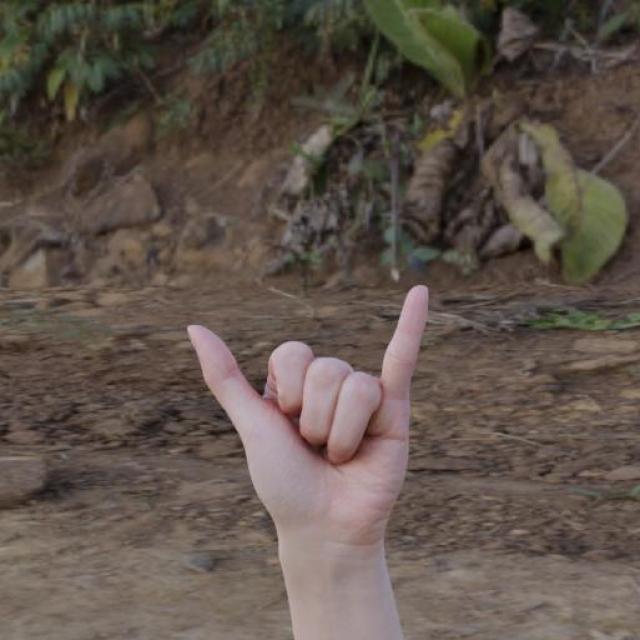Y: (185, 281, 432, 550)
